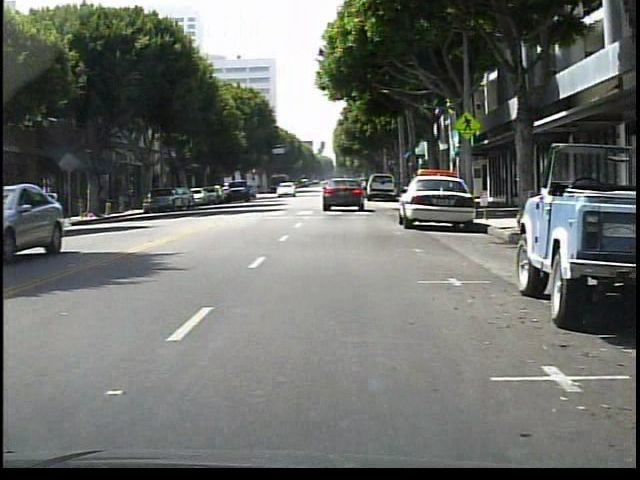person: (20, 179, 45, 231)
